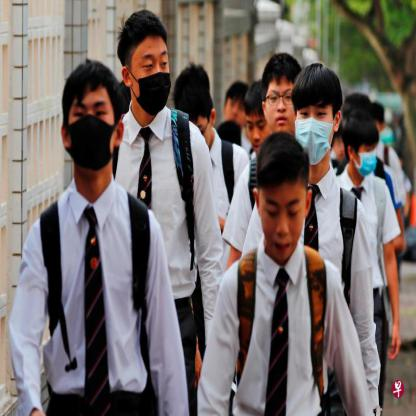Not_Wearing_Mask: (260, 193, 304, 259), (266, 84, 294, 132), (245, 113, 266, 152), (224, 97, 245, 127)
Wearing_Mask: (66, 96, 114, 172), (131, 47, 171, 117), (294, 101, 332, 164), (357, 144, 376, 178)
